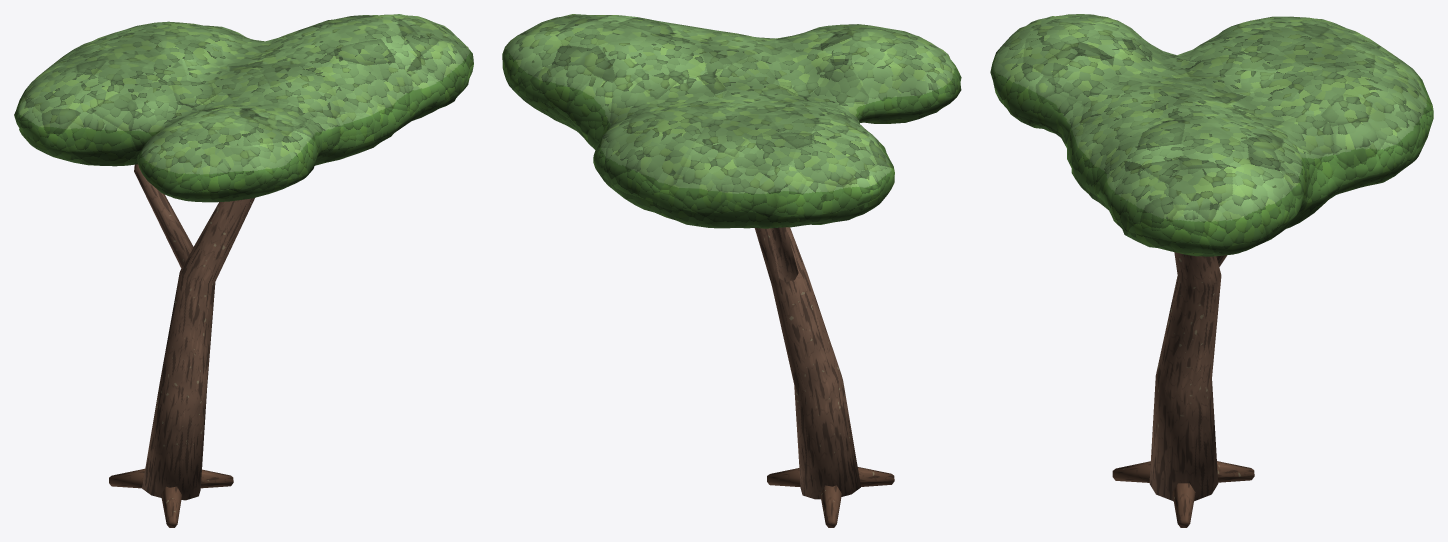
File: crooked_tree_a.glb
The picture shows the model from 3 angles, left to right: view 1: azimuth 30°, elevation 25°; view 2: azimuth 150°, elevation 25°; view 3: azimuth 270°, elevation 25°; orthographic projection. The views are drawn at different scales.
Visible parts, largest first — view 1: crown_leaf, Trunk; view 2: crown_leaf, Trunk; view 3: crown_leaf, Trunk.
Part boxes in pixels (x1=…): crown_leaf: x1=14, y1=14, x2=473, y2=202; Trunk: x1=109, y1=164, x2=254, y2=527; crown_leaf: x1=502, y1=14, x2=961, y2=228; Trunk: x1=754, y1=227, x2=894, y2=527; crown_leaf: x1=990, y1=14, x2=1433, y2=256; Trunk: x1=1112, y1=252, x2=1254, y2=527.
Bounding box in the file's own units: 3.37 × 3.31 × 2.83.
Materials: 1 (1 with a texture image).
